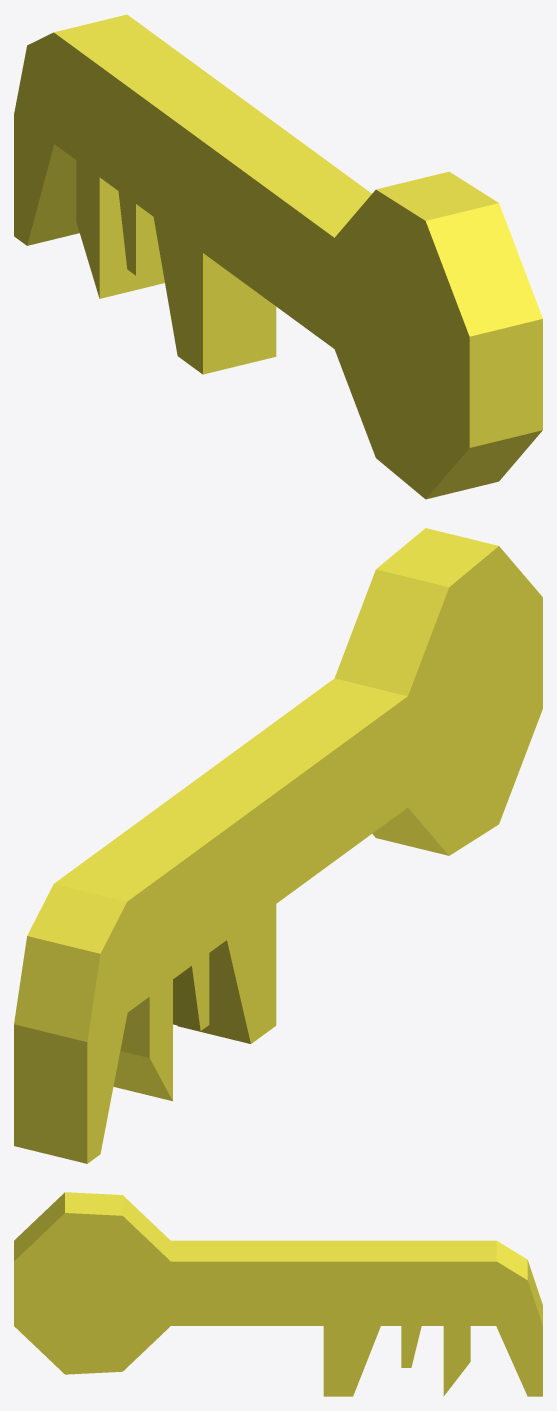
File: Key.fbx
3 views of the same model, one above another, from view 1: azimuth 30°, elevation 25°; view 2: azimuth 150°, elevation 25°; view 3: azimuth 270°, elevation 25° (orthographic). The views are drawn at different scales.
Parts seen in each view (by area): view 1: key; view 2: key; view 3: key.
Part boxes in pixels (x1=…): key: x1=14, y1=14, x2=542, y2=499; key: x1=14, y1=528, x2=542, y2=1163; key: x1=14, y1=1192, x2=542, y2=1396.
Size of the model in its own units: 4 by 16.5 by 43.02.
